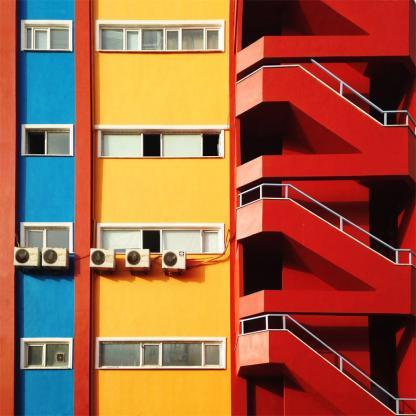Building Outline: (0, 0, 415, 415)
Facade: (0, 0, 415, 415)
Floor: (0, 201, 415, 314), (0, 0, 415, 96), (0, 102, 415, 195), (0, 320, 415, 409)
Floor Slab: (0, 96, 415, 102), (0, 195, 415, 201), (0, 314, 415, 320), (0, 409, 415, 415)
Pillar: (0, 0, 15, 415), (75, 0, 90, 415)
Window: (99, 341, 222, 367), (99, 24, 222, 49), (99, 130, 222, 155), (99, 227, 222, 252), (24, 342, 69, 368), (24, 128, 69, 154), (24, 24, 69, 49), (24, 227, 69, 252)
Window Outline: (95, 337, 225, 370), (95, 19, 225, 52), (95, 125, 225, 158), (95, 222, 225, 255), (21, 338, 72, 371), (21, 19, 72, 52), (21, 124, 72, 157), (21, 222, 72, 255)
